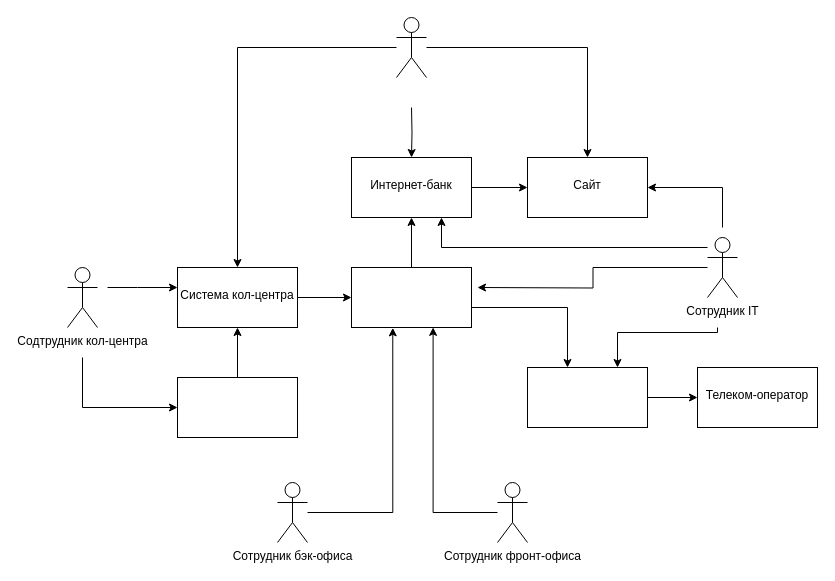
Some shapes in this 835 by 581 pixel diagram are drawn without their labels. Each missing label, with the box of its shape:
Автоматизированная банковская система (АБС): (350, 266, 472, 328)
Клиент: (396, 16, 426, 78)
Система партнёрского кол-центра: (176, 376, 298, 438)
СМС-шлюз телеком- оператора: (526, 366, 648, 428)
